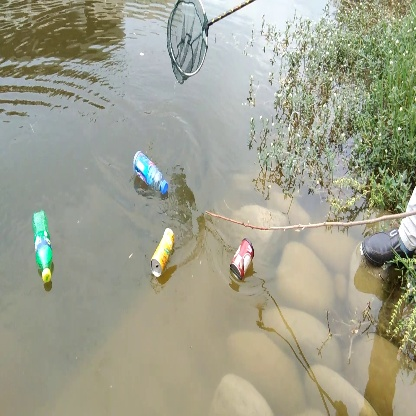bottle: (27, 210, 59, 289), (131, 149, 173, 195), (149, 226, 177, 278), (229, 235, 257, 282)
